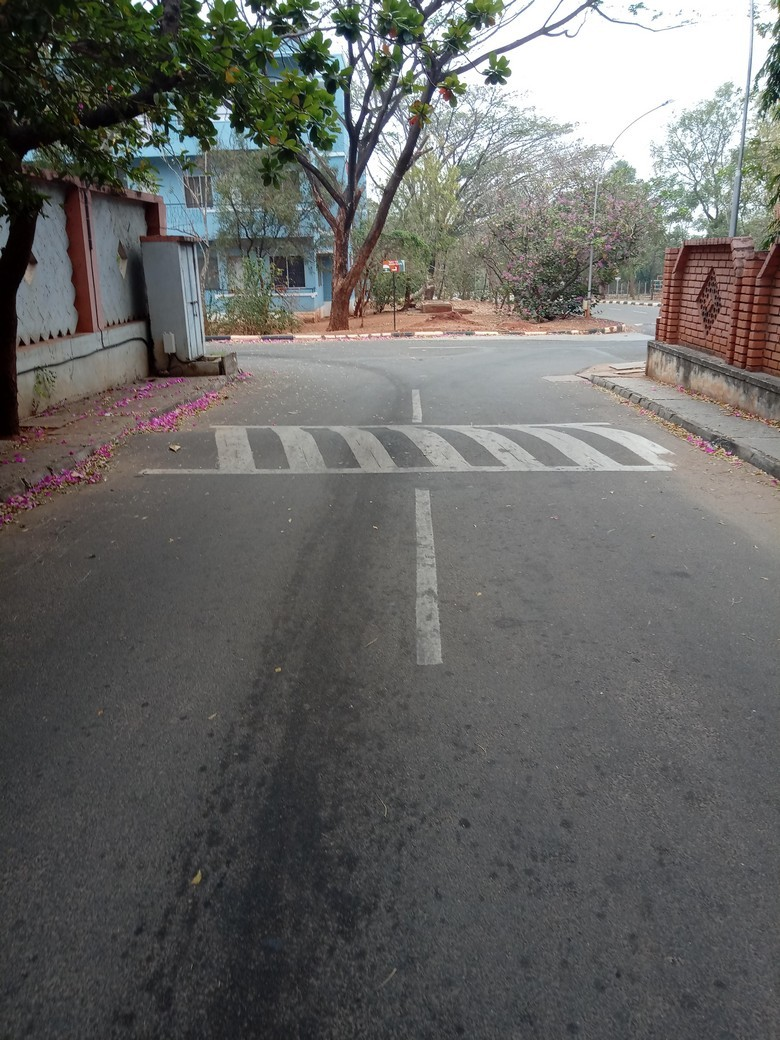bump: (110, 423, 683, 473)
